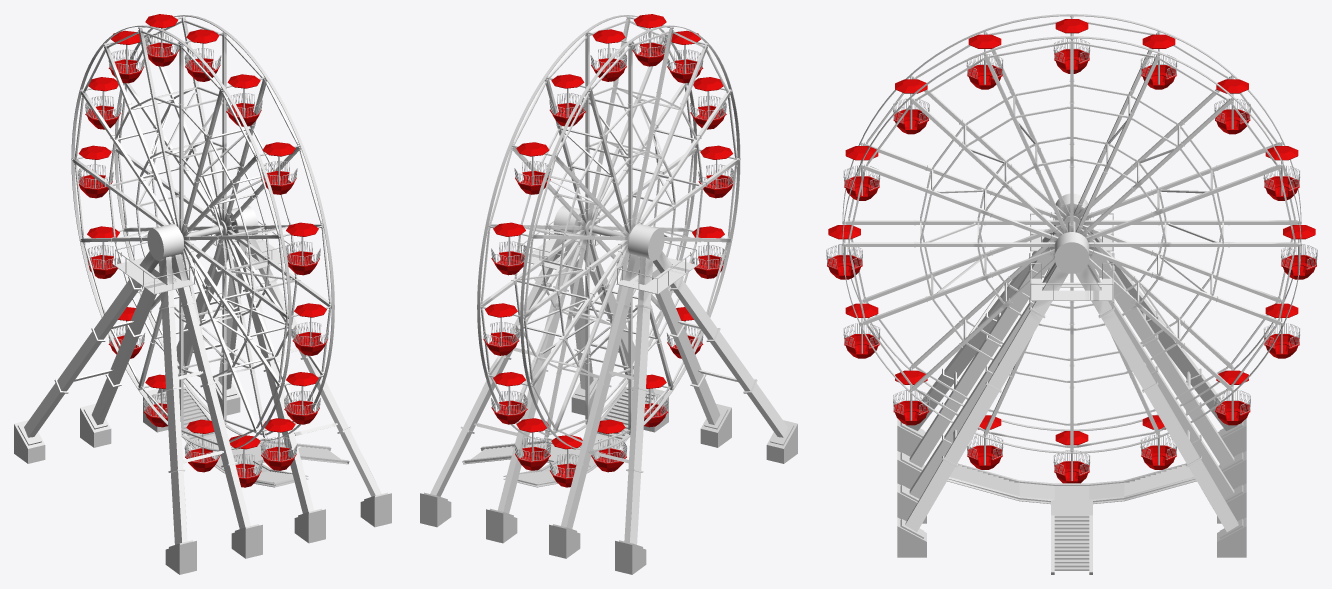
Rendered from Ferris Wheel.dae.
The picture shows the model from 3 angles, left to right: view 1: azimuth 30°, elevation 25°; view 2: azimuth 150°, elevation 25°; view 3: azimuth 270°, elevation 25°; orthographic projection. The views are drawn at different scales.
Visible parts, largest first — view 1: Cube.024, Cube.035, Cube.018, BezierCircle.001, Cube.025, Cube.034, BezierCircle, Cube.005, Cube.013, Cube, Cube.008, Cube.004 (+35 smaller); view 2: Cube.025, Cube.034, Cube.019, BezierCircle.001, Cube.024, Cube.035, BezierCircle, Cube, Cube.008, Cube.015, Cube.002, Cube.006 (+35 smaller); view 3: Plane.116, Cube.020, Cube.021, Cube.018, Cube.019, Cube.011, Cube.010, BezierCircle, Cube.007, Cube.012, Cube.013, Cube.004 (+36 smaller).
Part boxes in pixels (<box>): Cube.024: <box>159,256,187,544</box>; Cube.035: <box>165,492,391,574</box>; Cube.018: <box>171,254,250,528</box>; BezierCircle.001: <box>71,25,291,451</box>; Cube.025: <box>24,251,158,437</box>; Cube.034: <box>14,374,240,463</box>; BezierCircle: <box>114,15,334,440</box>; Cube.005: <box>183,235,321,433</box>; Cube.013: <box>184,233,330,387</box>; Cube: <box>142,20,227,231</box>; Cube.008: <box>107,16,222,228</box>; Cube.004: <box>84,32,220,225</box>; Cube.025: <box>624,256,652,544</box>; Cube.034: <box>420,492,646,574</box>; Cube.019: <box>561,254,640,528</box>; BezierCircle.001: <box>520,25,740,451</box>; Cube.024: <box>653,251,787,437</box>; Cube.035: <box>571,374,797,463</box>; BezierCircle: <box>477,15,697,440</box>; Cube: <box>548,32,633,231</box>; Cube.008: <box>513,76,630,233</box>; Cube.015: <box>589,16,673,228</box>; Cube.002: <box>480,230,627,380</box>; Cube.006: <box>517,235,628,442</box>; Plane.116: <box>949,465,1194,570</box>; Cube.020: <box>1075,266,1238,531</box>; Cube.021: <box>905,266,1068,531</box>; Cube.018: <box>909,232,1063,467</box>; Cube.019: <box>1080,232,1234,467</box>; Cube.011: <box>860,92,1064,240</box>; Cube.010: <box>1082,225,1283,384</box>; BezierCircle: <box>842,36,1301,453</box>; Cube.007: <box>909,44,1066,236</box>; Cube.012: <box>1079,141,1295,240</box>; Cube.013: <box>848,225,1061,326</box>; Cube.004: <box>1077,75,1276,236</box>.
Bounding box in the file's own units: 16.93 × 28.1 × 30.44.
Materials: 7 (2 with a texture image).
